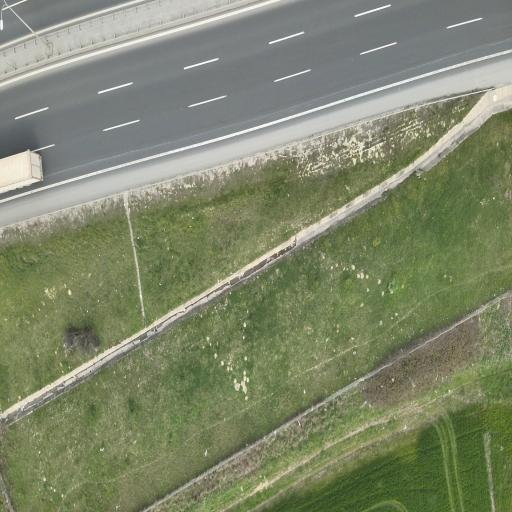car: (0, 150, 42, 192)
